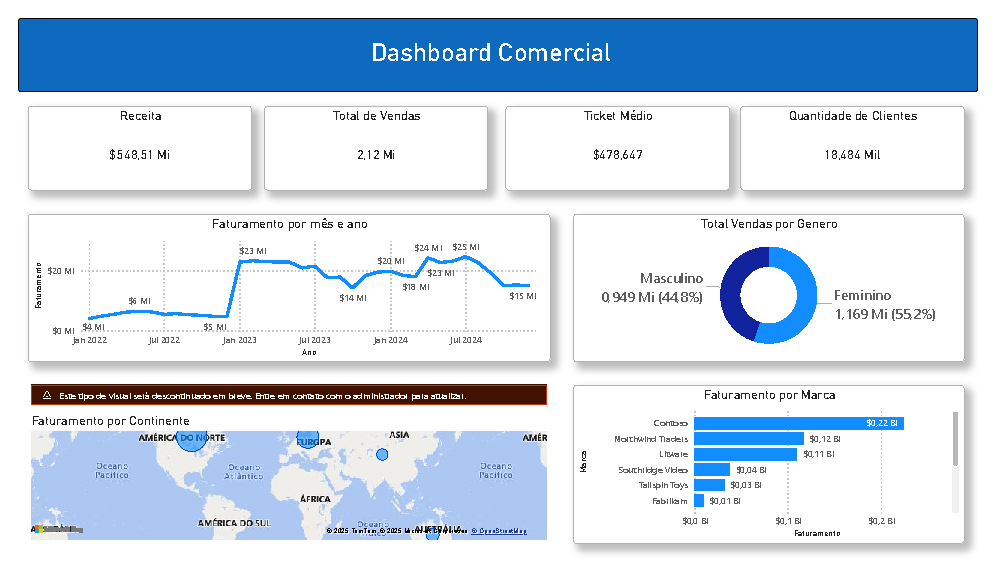

Layout of this report page (visuals, bound fields, positions):
{"tool":"powerbi","page":{"name":"DashBoard Comercial","canvas":[1280,720],"ordinal":0},"visuals":[{"type":"card","title":"Total de Vendas ","fields":{"Values":["Base de Vendas 22/23/24.Total Vendas"]},"box":[327.8,116.7,298.9,113.3],"z":0},{"type":"lineChart","title":"Faturamento por mês e ano","fields":{"Y":["Base de Vendas 22/23/24.Faturamento"],"Category":["Base de Vendas 22/23/24.Data Venda.Variation.Hierarquia de datas.Ano","Base de Vendas 22/23/24.Data Venda.Variation.Hierarquia de datas.Mês"]},"box":[13.3,261.1,696.7,197.8],"z":1000},{"type":"card","title":"Receita","fields":{"Values":["Base de Vendas 22/23/24.Faturamento"]},"box":[13.3,116.7,298.9,113.3],"z":2000},{"type":"card","title":"Ticket Médio","fields":{"Values":["Base de Vendas 22/23/24.Ticket Médio"]},"box":[650,116.7,298.9,113.3],"z":3000},{"type":"textbox","box":[0,0,1280,98.9],"z":4000},{"type":"card","title":"Quantidade de Clientes","fields":{"Values":["Base de Vendas 22/23/24.Quantidade Clientes"]},"box":[963.3,116.7,298.9,113.3],"z":5000},{"type":"donutChart","fields":{"Y":["Base de Vendas 22/23/24.Total Vendas"],"Category":["Cadastro de Clientes.Genero"]},"box":[740,261.1,522.2,197.8],"z":6000},{"type":"barChart","fields":{"Category":["Cadastro de Produtos.Marca"],"Y":["Base de Vendas 22/23/24.Faturamento"]},"box":[740,488.9,522.2,212.2],"z":7000},{"type":"map","fields":{"Category":["Cadastro de Lojas.Continente"],"Size":["Base de Vendas 22/23/24.Faturamento"]},"box":[13,489,697,212],"z":8000}]}

Visuals, with their boxes in screenshot pixels (x1, y1, x2, y2), scaled from the page's 1280x720 canvas onto the 996x576 screenshot:
"Total de Vendas " card: select_region(255, 93, 488, 184)
"Faturamento por mês e ano" lineChart: select_region(10, 209, 552, 367)
"Receita" card: select_region(10, 93, 243, 184)
"Ticket Médio" card: select_region(506, 93, 738, 184)
textbox: select_region(0, 0, 995, 79)
"Quantidade de Clientes" card: select_region(750, 93, 982, 184)
donutChart - Base de Vendas 22/23/24.Total Vendas x Cadastro de Clientes.Genero: select_region(576, 209, 982, 367)
barChart - Cadastro de Produtos.Marca x Base de Vendas 22/23/24.Faturamento: select_region(576, 391, 982, 561)
map - Cadastro de Lojas.Continente x Base de Vendas 22/23/24.Faturamento: select_region(10, 391, 552, 561)
